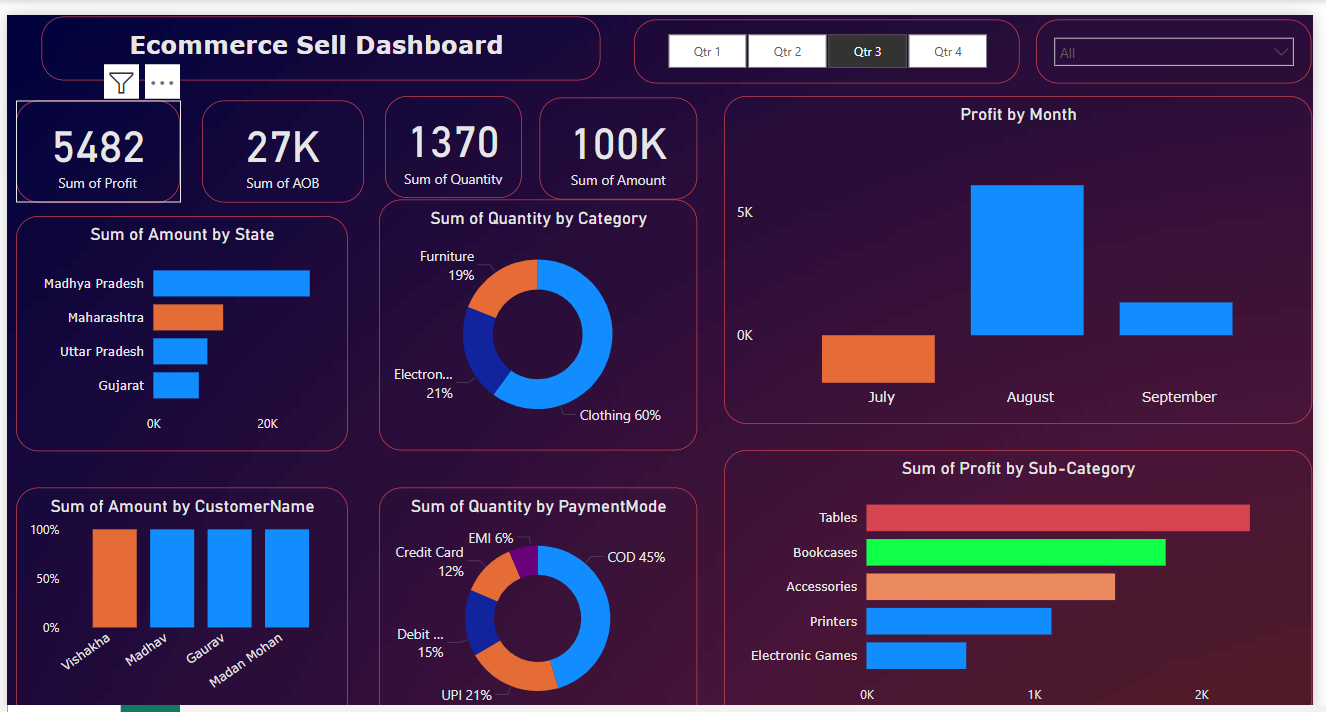

The dashboard page shown, as its layout file describes it:
{"tool":"powerbi","page":{"name":"Page 1","canvas":[1280,720],"ordinal":0},"visuals":[{"type":"textbox","box":[34,1.9,548,62.4],"z":0},{"type":"columnChart","title":"Profit by Month ","fields":{"Category":["Orders.Order Date.Variation.Date Hierarchy.Month"],"Y":["Sum(Details.Profit)"]},"box":[703,79.4,576.4,321.3],"z":1000},{"type":"barChart","fields":{"Category":["Details.Sub-Category"],"Y":["Sum(Details.Profit)"]},"box":[703,427.1,576.4,266.5],"z":2000},{"type":"donutChart","fields":{"Category":["Details.Category"],"Y":["Sum(Details.Quantity)"]},"box":[364.7,181.4,311.8,245.7],"z":3000},{"type":"donutChart","fields":{"Category":["Details.PaymentMode"],"Y":["Sum(Details.Quantity)"]},"box":[364.7,463,311.8,238.1],"z":4000},{"type":"card","fields":{"Values":["Sum(Details.Amount)"]},"box":[521.6,81.3,155,100.2],"z":5000},{"type":"card","fields":{"Values":["Sum(Details.Quantity)"]},"box":[370.4,79.4,134.2,100.2],"z":6000},{"type":"card","fields":{"Values":["Sum(Details.Profit)"]},"box":[9.4,83.2,160.6,100.2],"z":7000},{"type":"card","fields":{"Values":["Sum(Details.AOB)"]},"box":[190.9,83.2,158.7,100.2],"z":8000},{"type":"barChart","fields":{"Category":["Orders.State"],"Y":["Sum(Details.Amount)"]},"box":[9.4,196.5,325,230.6],"z":9000},{"type":"hundredPercentStackedColumnChart","fields":{"Y":["Sum(Details.Amount)"],"Category":["Orders.CustomerName"]},"box":[9.4,463,325,230.6],"z":10000},{"type":"slicer","fields":{"Values":["Orders.State"]},"box":[1009.1,3.8,270.2,62.4],"z":10001},{"type":"slicer","fields":{"Values":["Orders.Order Date.Variation.Date Hierarchy.Quarter"]},"box":[614.2,3.8,378,62.4],"z":10002}]}

Visuals, with their boxes on the page's 1280x720 design canvas (x1, y1, x2, y2). These are canvas units, not pixel positions in the 1326x712 screenshot, which may show the page scaled, cropped or inside an application window:
textbox: (left=34, top=2, right=582, bottom=64)
"Profit by Month " columnChart: (left=703, top=79, right=1279, bottom=401)
barChart - Details.Sub-Category x Sum(Details.Profit): (left=703, top=427, right=1279, bottom=694)
donutChart - Details.Category x Sum(Details.Quantity): (left=365, top=181, right=676, bottom=427)
donutChart - Details.PaymentMode x Sum(Details.Quantity): (left=365, top=463, right=676, bottom=701)
card - Sum(Details.Amount): (left=522, top=81, right=677, bottom=182)
card - Sum(Details.Quantity): (left=370, top=79, right=505, bottom=180)
card - Sum(Details.Profit): (left=9, top=83, right=170, bottom=183)
card - Sum(Details.AOB): (left=191, top=83, right=350, bottom=183)
barChart - Orders.State x Sum(Details.Amount): (left=9, top=196, right=334, bottom=427)
hundredPercentStackedColumnChart - Sum(Details.Amount) x Orders.CustomerName: (left=9, top=463, right=334, bottom=694)
slicer - Orders.State: (left=1009, top=4, right=1279, bottom=66)
slicer - Orders.Order Date.Variation.Date Hierarchy.Quarter: (left=614, top=4, right=992, bottom=66)
